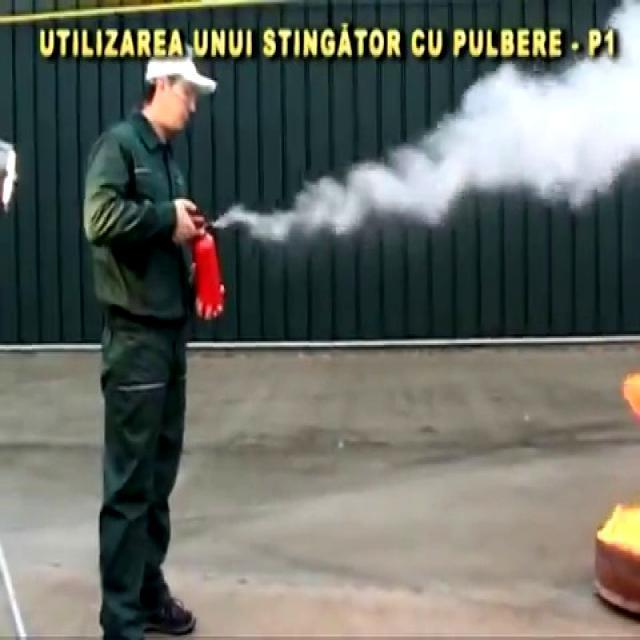Smoke: (298, 58, 634, 240)
